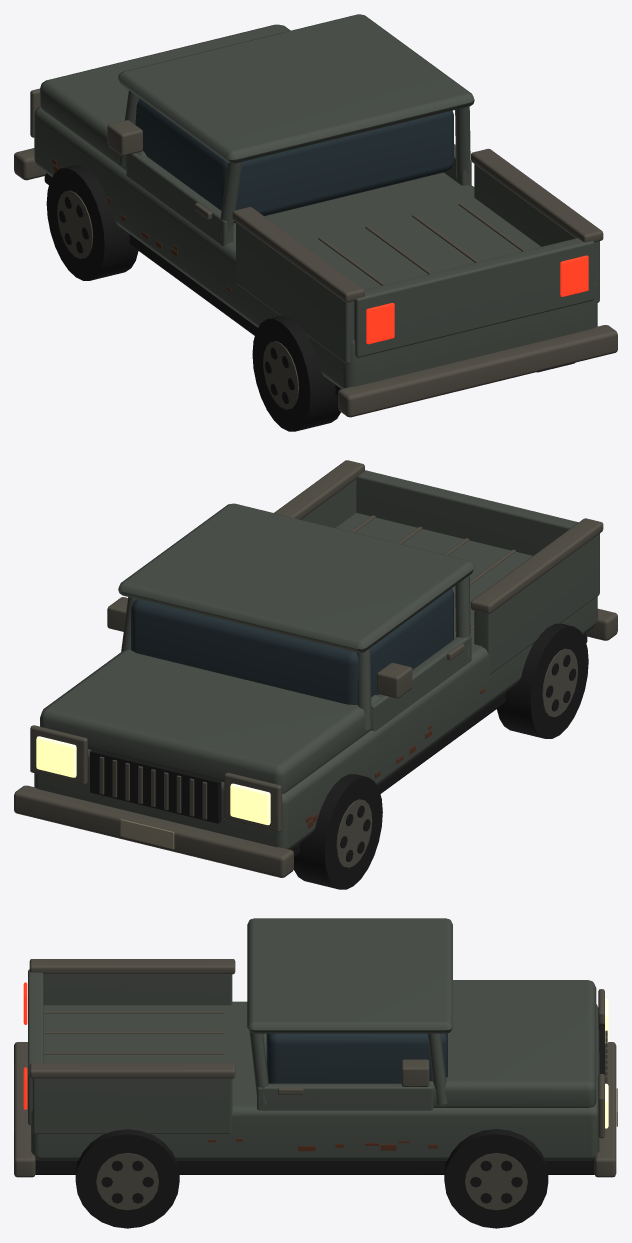
File: noir-pickup.glb
3 views of the same model, one above another, from view 1: azimuth 30°, elevation 25°; view 2: azimuth 150°, elevation 25°; view 3: azimuth 270°, elevation 25° (orthographic). The views are drawn at different scales.
Visible parts, largest first — view 1: pickup-enamel.002, aged-steel.006, smoked-glass.004, rubber.006, tail-lens.002; view 2: pickup-enamel.002, aged-steel.006, rubber.006, smoked-glass.004, halogen-lens.004, shirt.004; view 3: pickup-enamel.002, aged-steel.006, rubber.006, smoked-glass.004, oxidised-metal.002.
Part boxes in pixels (x1,y1,x2,y2): pickup-enamel.002: (34, 14, 599, 388); aged-steel.006: (14, 88, 617, 417); smoked-glass.004: (135, 98, 453, 223); rubber.006: (44, 165, 574, 431); tail-lens.002: (366, 255, 588, 344); pickup-enamel.002: (34, 470, 599, 849); aged-steel.006: (14, 460, 617, 877); rubber.006: (90, 623, 588, 889); smoked-glass.004: (131, 588, 453, 704); halogen-lens.004: (36, 736, 270, 825); shirt.004: (120, 819, 174, 849); pickup-enamel.002: (28, 918, 599, 1160); aged-steel.006: (14, 959, 616, 1210); rubber.006: (35, 1023, 604, 1228); smoked-glass.004: (266, 1033, 447, 1083); oxidised-metal.002: (208, 1138, 437, 1151).
Bounding box in the file's own units: 2.5 × 1.81 × 5.
